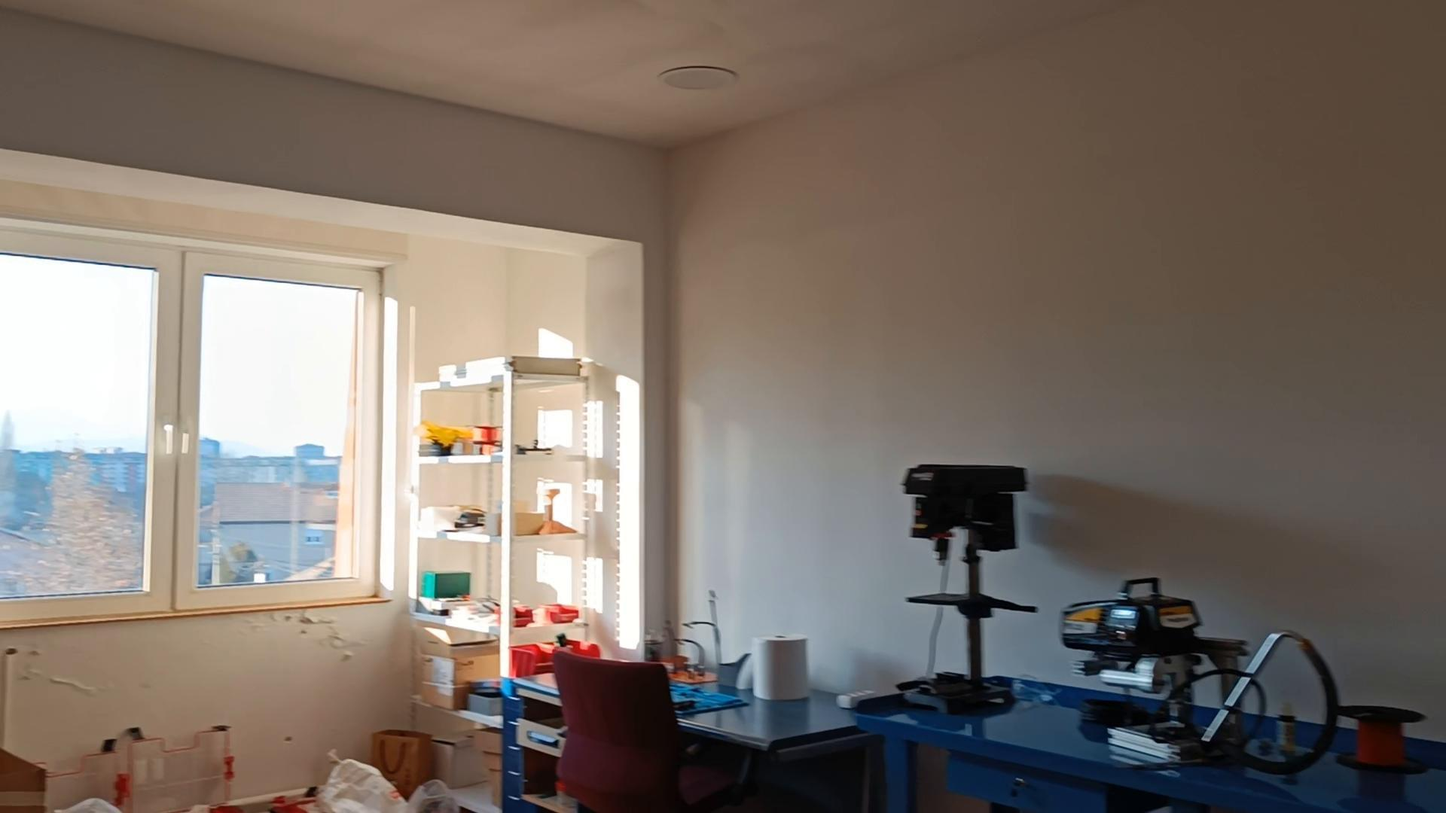ceiling: (0, 0, 1122, 145)
wall: (0, 3, 1445, 738), (0, 605, 407, 778)
